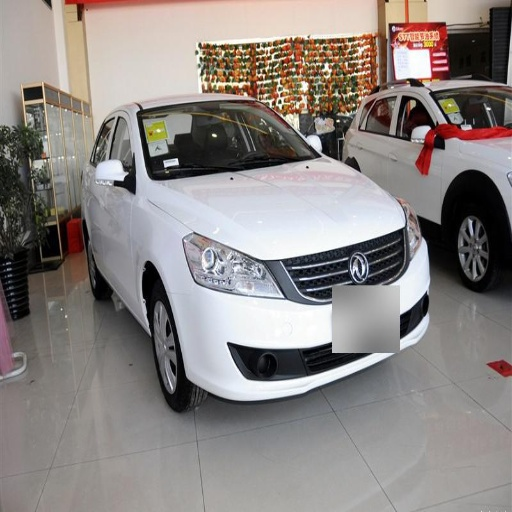front_bumper: (170, 228, 428, 399)
front_right_door: (102, 112, 138, 292), (396, 92, 433, 149)
front_right_light: (183, 233, 280, 297)
hood: (159, 156, 407, 268)
